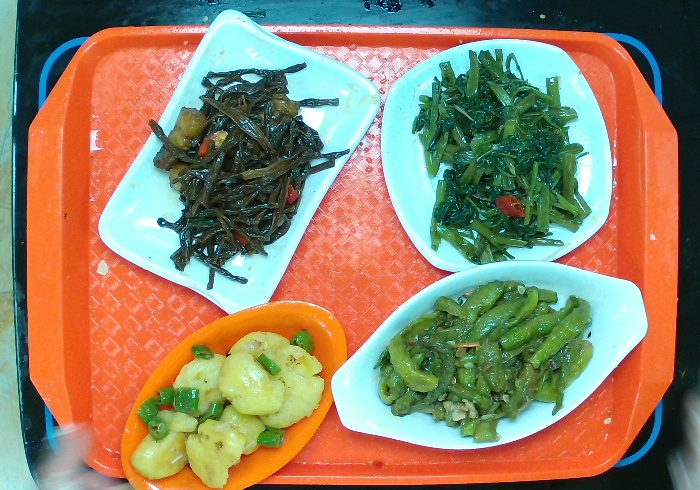RJxy-Ju_Huang_Tuo_Yuan: (114, 297, 352, 489)
RJxy-Si_Fang_Ao_Bian_Wan: (102, 9, 383, 326)
RJxy-Si_Fang_Die: (375, 36, 617, 275)
RJxy-Yu_Pan: (328, 256, 650, 459)
